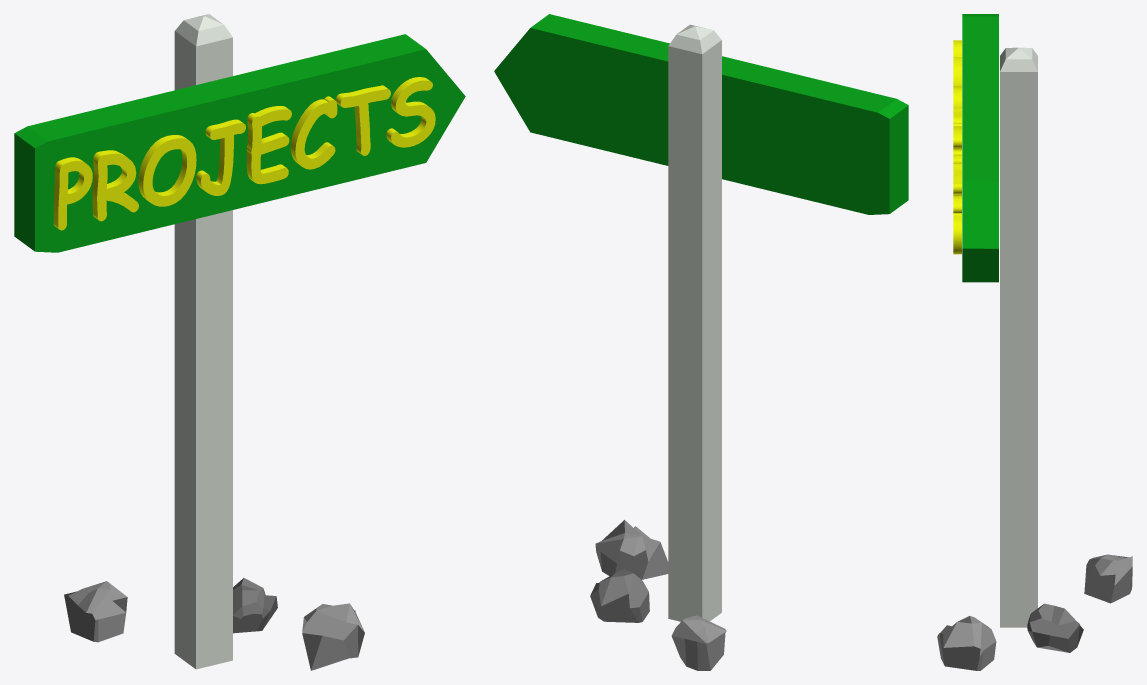
The model's file is sign-projects.glb.
The picture shows the model from 3 angles, left to right: view 1: azimuth 30°, elevation 25°; view 2: azimuth 150°, elevation 25°; view 3: azimuth 270°, elevation 25°; orthographic projection. The views are drawn at different scales.
Visible parts, largest first — view 1: Cube.001, Cube, PROJECT, Cube.002, Cube.003, Cube.004; view 2: Cube.001, Cube, Cube.002, Cube.004, Cube.003; view 3: Cube, Cube.001, Cube.002, Cube.004, Cube.003, PROJECT.
Part boxes in pixels (x1,y1,x2,y2): Cube.001: (14, 34, 465, 252); Cube: (174, 14, 232, 669); PROJECT: (53, 77, 435, 230); Cube.002: (302, 603, 364, 670); Cube.003: (64, 581, 127, 642); Cube.004: (233, 578, 277, 633); Cube.001: (494, 14, 908, 214); Cube: (668, 24, 721, 621); Cube.002: (595, 520, 668, 579); Cube.004: (590, 569, 649, 622); Cube.003: (671, 615, 726, 670); Cube: (1000, 47, 1037, 627); Cube.001: (962, 14, 998, 282); Cube.002: (937, 616, 996, 670); Cube.004: (1027, 603, 1083, 652); Cube.003: (1084, 554, 1132, 603); PROJECT: (953, 40, 961, 254).
Bounding box in the file's own units: 6.77 × 9.64 × 2.99.
